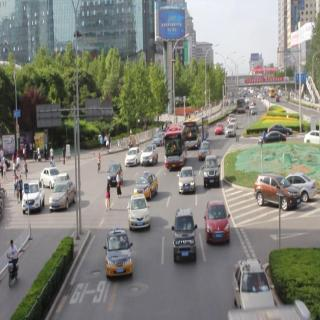BigCar: (163, 122, 189, 168), (184, 118, 210, 146)
Car: (231, 260, 275, 311), (251, 171, 299, 212), (105, 230, 134, 280), (172, 210, 198, 263), (205, 201, 231, 248), (127, 195, 151, 230), (51, 178, 76, 211), (22, 179, 42, 216), (202, 154, 223, 184), (135, 172, 157, 198), (176, 168, 195, 195), (40, 167, 59, 186), (107, 162, 123, 184), (259, 133, 286, 146), (141, 142, 155, 165), (126, 146, 140, 166), (225, 122, 238, 142), (199, 140, 210, 160), (213, 120, 224, 136)
